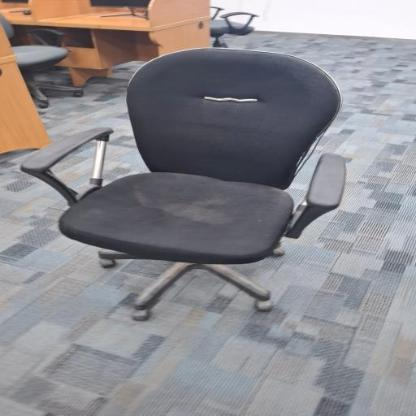chair: (13, 39, 361, 322)
